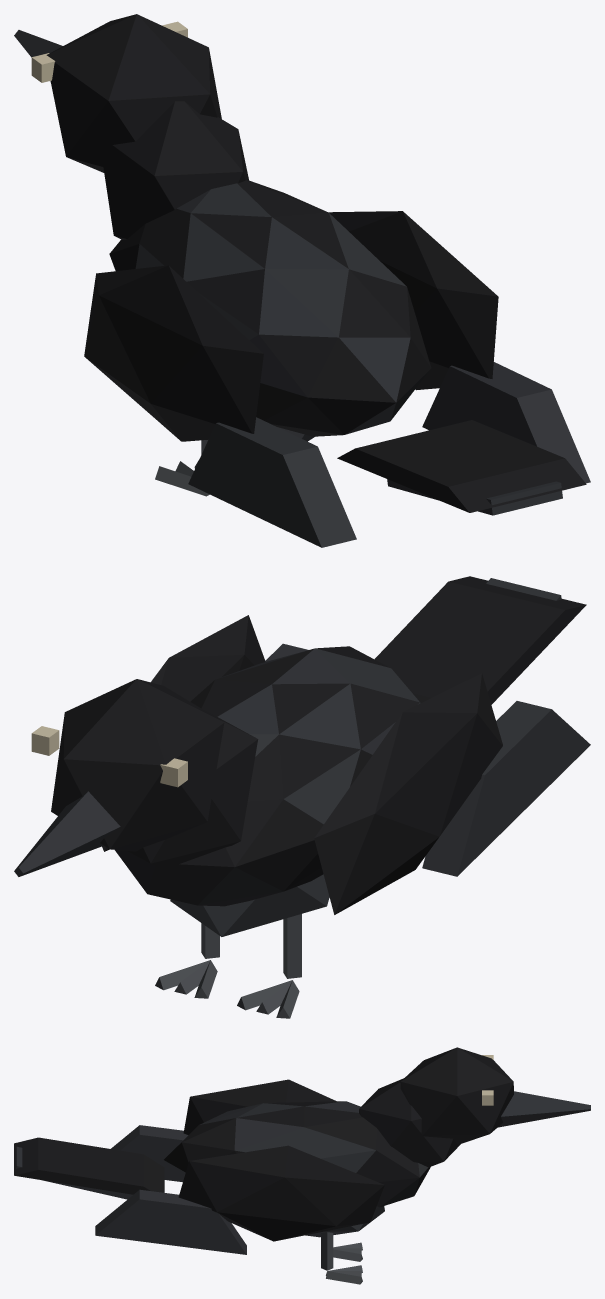
File: animal_crow.fbx
The picture shows the model from 3 angles, top to bottom: view 1: azimuth 30°, elevation 25°; view 2: azimuth 150°, elevation 25°; view 3: azimuth 270°, elevation 25°; orthographic projection. The views are drawn at different scales.
Parts seen in each view (by area): view 1: Torso, Wing_L, Head, Wing_R; view 2: Torso, Wing_L, Head, Wing_R; view 3: Torso, Wing_R, Head, Wing_L.
Boxes of the visible parts, x1,y1,x2,y2 form: Torso: (109, 180, 586, 515); Wing_L: (84, 265, 356, 547); Head: (14, 14, 248, 239); Wing_R: (329, 211, 590, 483); Torso: (115, 576, 586, 1018); Wing_L: (314, 673, 590, 914); Head: (14, 679, 258, 876); Wing_R: (102, 615, 307, 851); Torso: (14, 1101, 430, 1284); Wing_R: (95, 1145, 384, 1254); Head: (359, 1047, 590, 1167); Wing_L: (111, 1079, 336, 1182).
Size of the model in its own units: 0.2466 by 0.3154 by 0.7547.
